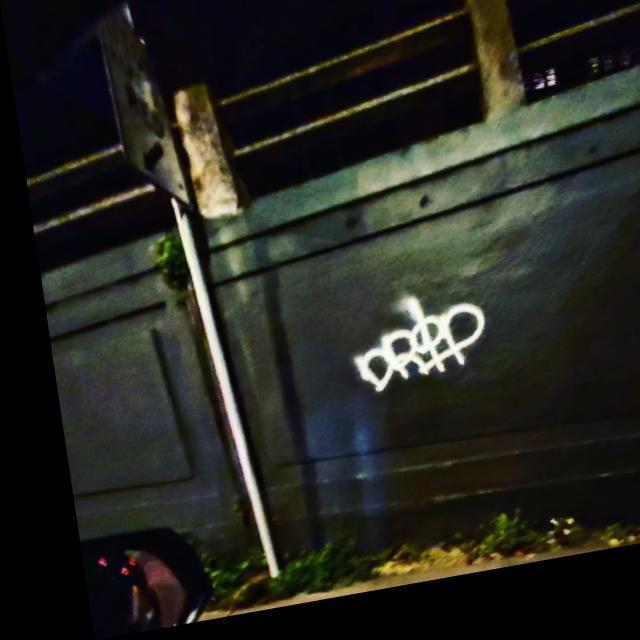nonspitting: (357, 299, 486, 391)
